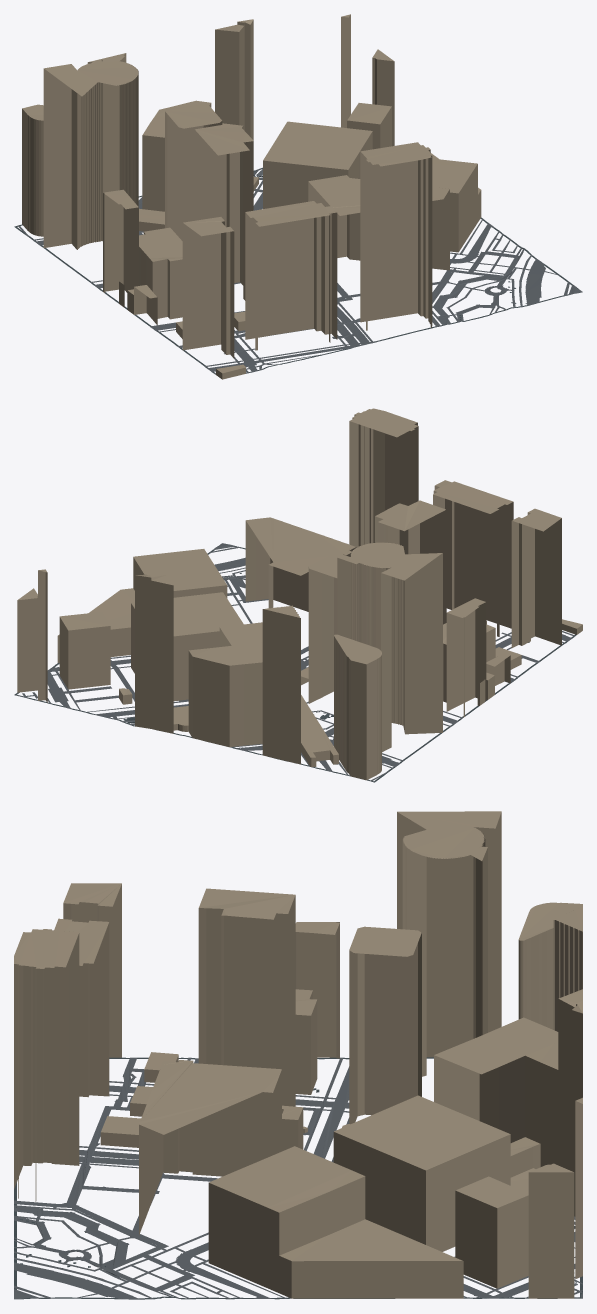
The model's file is epsg26910-1440-10893.lod1-adaptive.glb.
3 views of the same model, one above another, from view 1: azimuth 30°, elevation 25°; view 2: azimuth 150°, elevation 25°; view 3: azimuth 270°, elevation 25° (orthographic). The views are drawn at different scales.
Parts seen in each view (by area): view 1: epsg26910-1440-10893-lod1-adaptive; view 2: epsg26910-1440-10893-lod1-adaptive; view 3: epsg26910-1440-10893-lod1-adaptive.
Boxes of the visible parts, x1,y1,x2,y2 form: epsg26910-1440-10893-lod1-adaptive: (14,14,582,379); epsg26910-1440-10893-lod1-adaptive: (14,408,582,782); epsg26910-1440-10893-lod1-adaptive: (14,811,582,1299).
Size of the model in its own units: 384 by 188 by 384.
